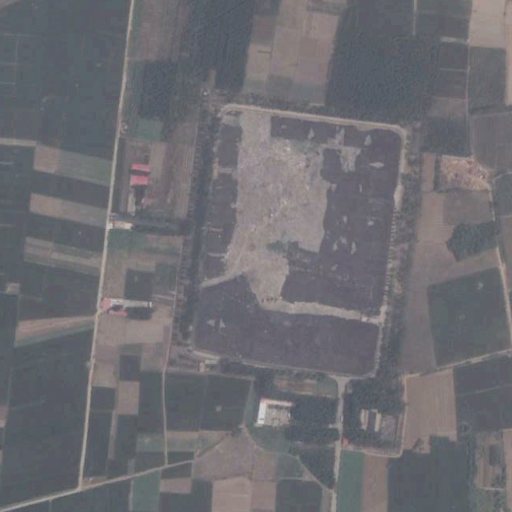lf: (184, 102, 405, 382)
